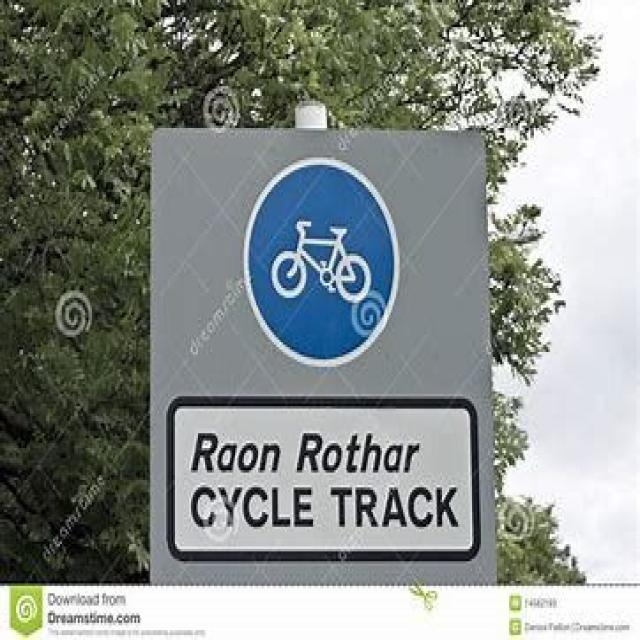COMPULSARY_CYCLE_TRACK: (238, 151, 414, 372)
